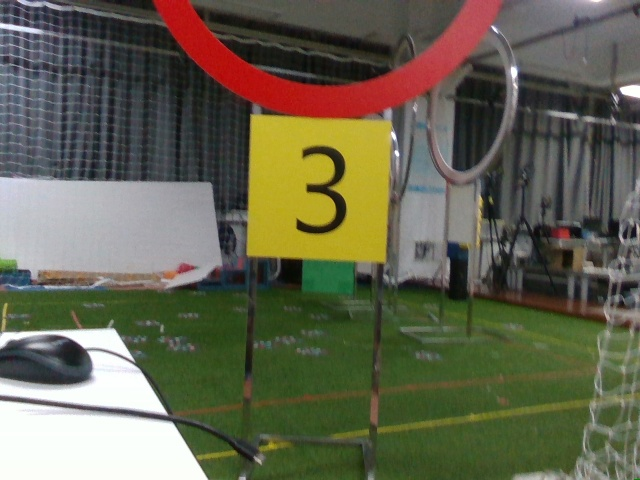target: (254, 120, 378, 254)
